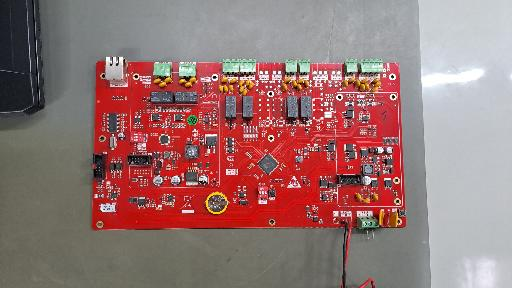var: (388, 211, 399, 228), (379, 209, 384, 226), (295, 83, 303, 91), (245, 79, 251, 87), (356, 193, 362, 201), (372, 193, 378, 201), (228, 84, 234, 92), (372, 78, 380, 84), (304, 80, 310, 88), (361, 78, 369, 84), (221, 77, 229, 83), (164, 77, 172, 83), (342, 80, 348, 88), (189, 77, 197, 83), (247, 81, 253, 89), (364, 82, 369, 91), (370, 87, 379, 92), (297, 78, 304, 84), (284, 77, 291, 83), (348, 77, 355, 83), (291, 80, 297, 87), (242, 89, 248, 96), (355, 80, 361, 87), (154, 78, 161, 84), (362, 198, 370, 203), (178, 79, 186, 84), (219, 84, 224, 92), (159, 82, 167, 87), (184, 82, 192, 87), (360, 83, 365, 91), (224, 84, 228, 93), (239, 79, 244, 86), (239, 86, 244, 93), (230, 78, 237, 83), (283, 83, 287, 91)
